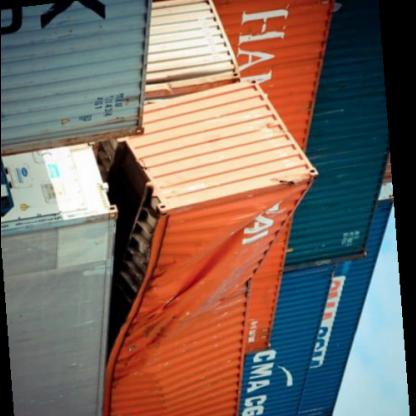Damage: (112, 216, 250, 370)
